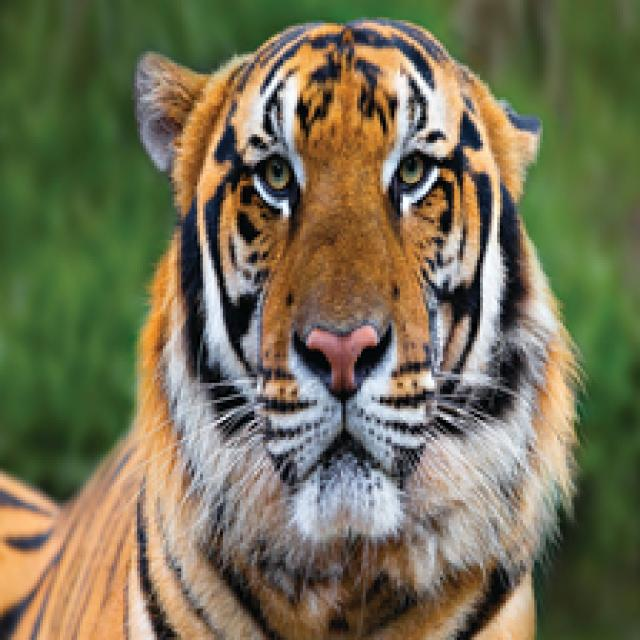tiger: (0, 15, 595, 640)
